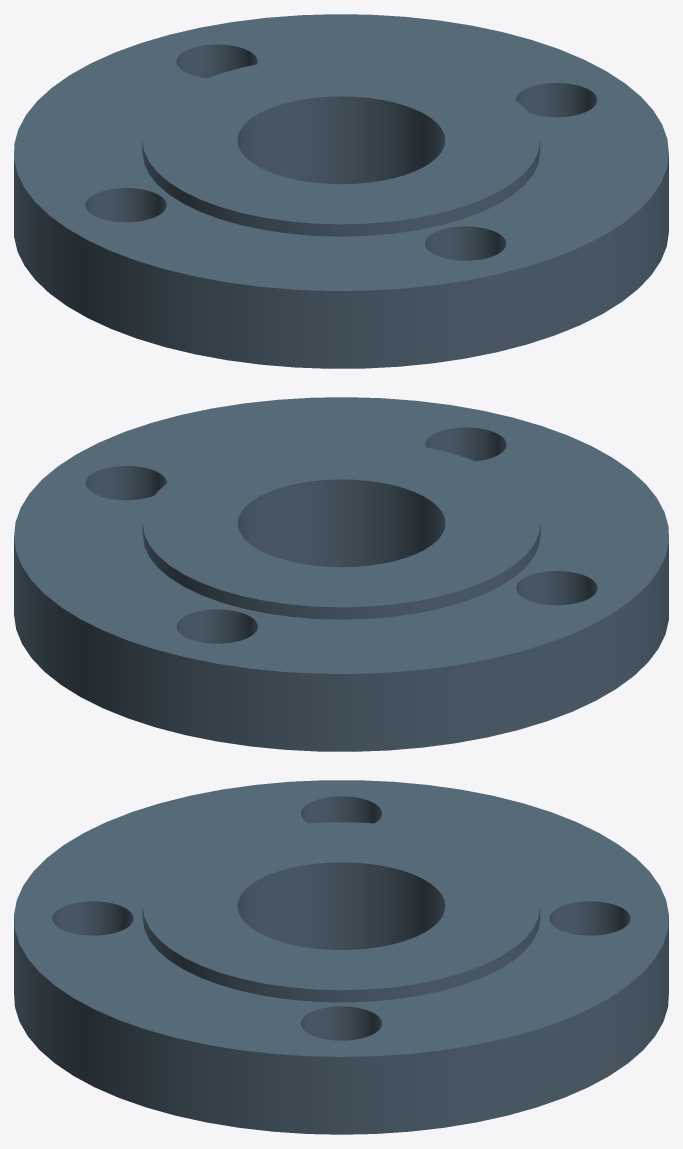
Rendered from flanec-ploskij-DN40-PN25.glb.
3 views of the same model, one above another, from view 1: azimuth 30°, elevation 25°; view 2: azimuth 150°, elevation 25°; view 3: azimuth 270°, elevation 25° (orthographic).
Visible parts, largest first — view 1: Open CASCADE STEP translator 7.9 15; view 2: Open CASCADE STEP translator 7.9 15; view 3: Open CASCADE STEP translator 7.9 15.
Part boxes in pixels (box(x1,y1,x2,y2)): Open CASCADE STEP translator 7.9 15: box(14, 14, 668, 368); Open CASCADE STEP translator 7.9 15: box(14, 397, 668, 751); Open CASCADE STEP translator 7.9 15: box(14, 780, 668, 1134).
Size of the model in its own units: 145 by 22 by 145.
